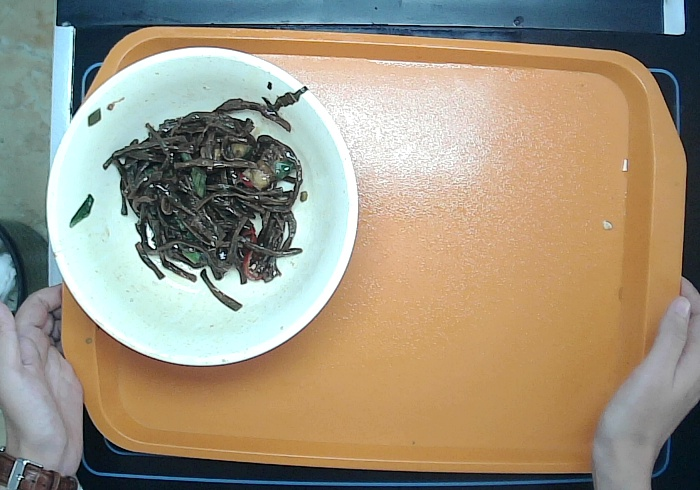ZNLD-Da_Tang_Wan: (39, 47, 362, 369)
